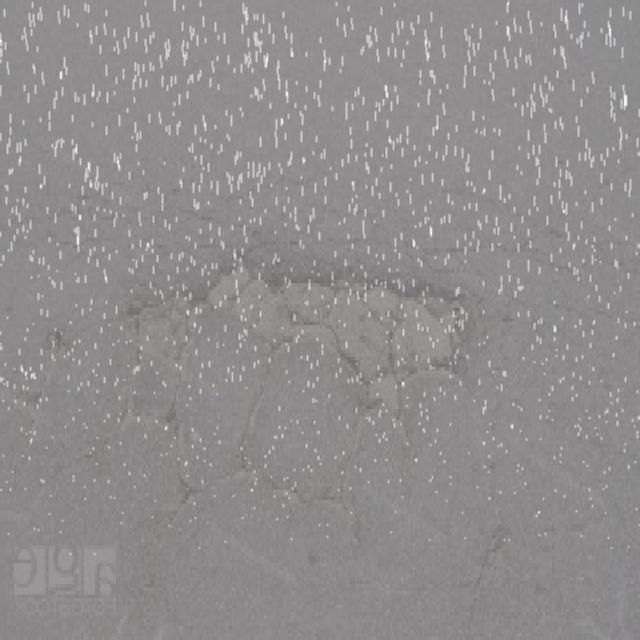Pothole: (120, 250, 490, 382)
